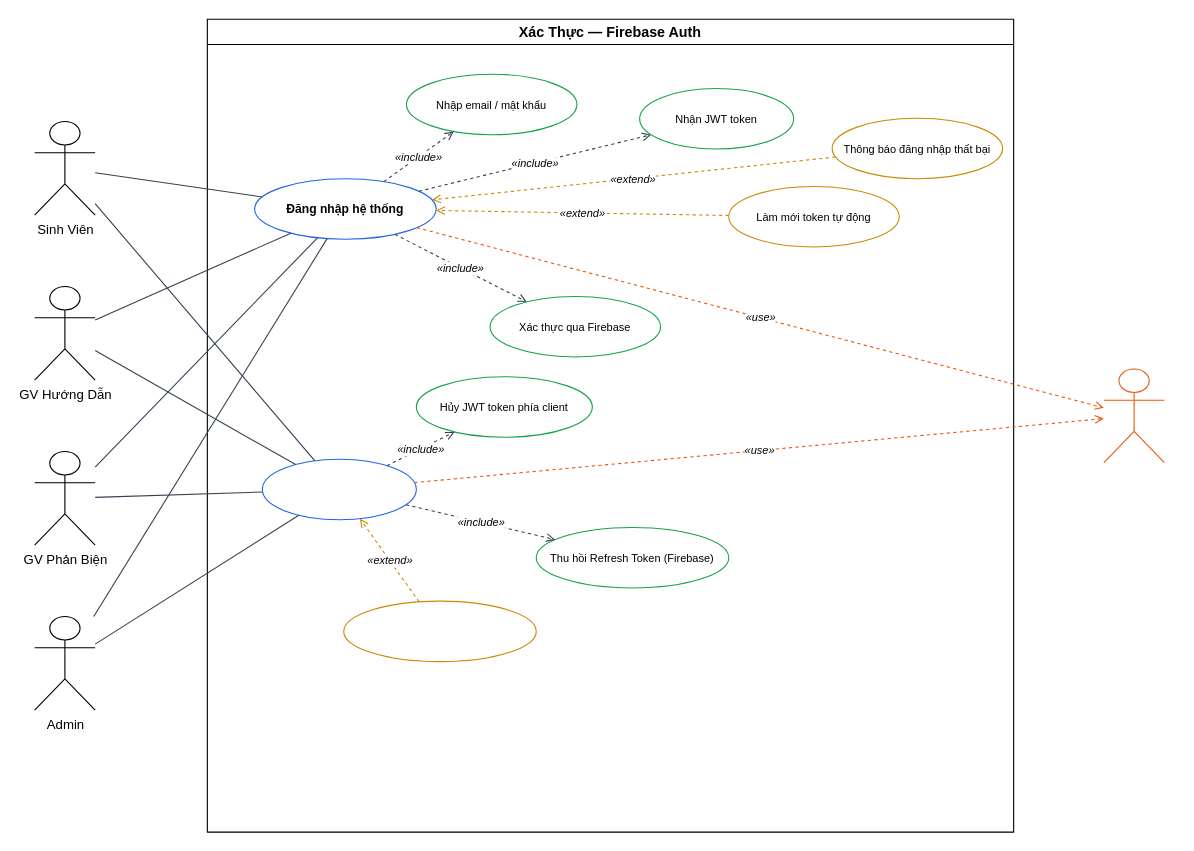
The diagram is 1194 pixels wide and 851 high, and some of its shapes have lost their labels. The shapes that lost their labels are listed below. From the top down, each one's box as (x1, y1, x2, y2) in pixels, then its label:
(1103, 368, 1164, 463): Firebase Auth «system»
(261, 458, 416, 520): Đăng xuất
(343, 600, 536, 662): Tự động đăng xuất khi hết phiên
